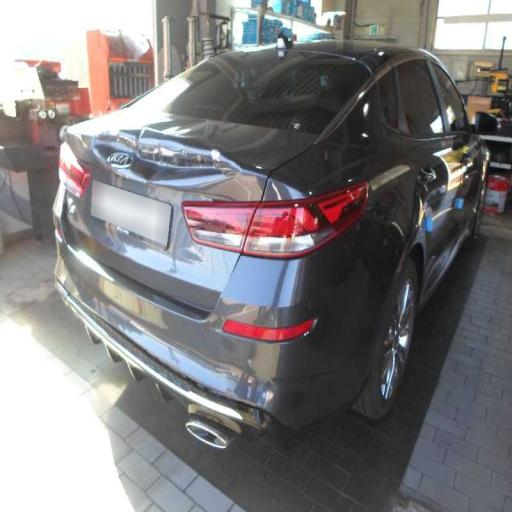dent: (81, 97, 265, 334), (173, 305, 301, 455)
